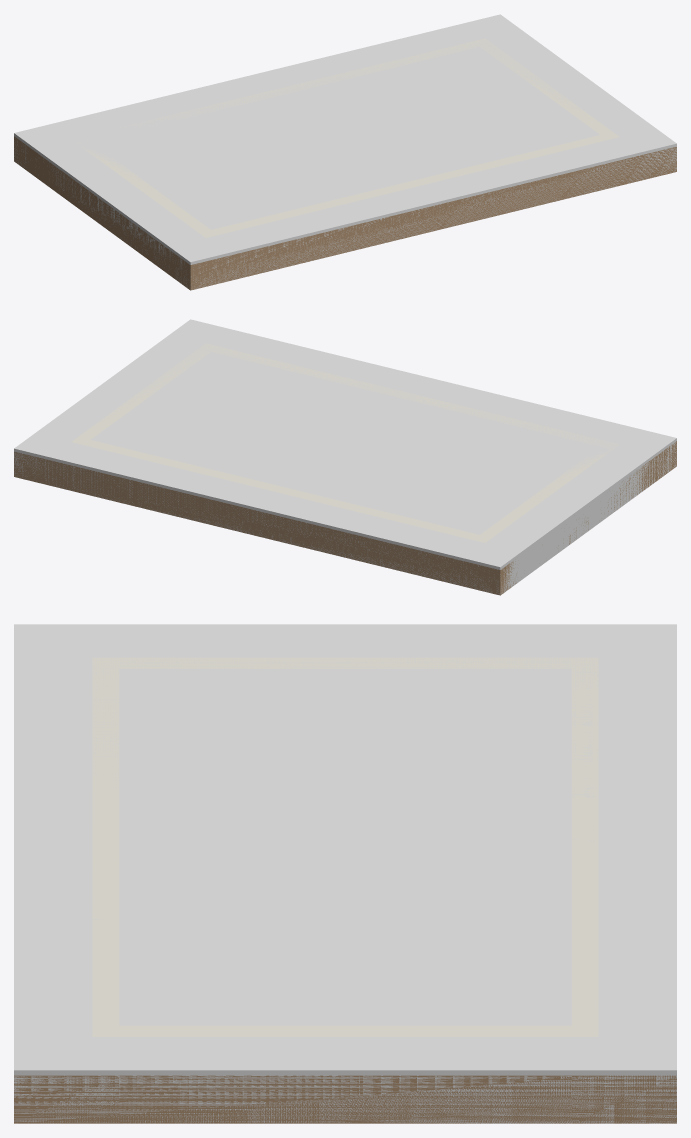
Rendered from bb_set_pool.fbx.
3 renders of one model, top to bottom at view 1: azimuth 30°, elevation 25°; view 2: azimuth 150°, elevation 25°; view 3: azimuth 270°, elevation 25°, orthographic. The views are drawn at different scales.
Parts seen in each view (by area): view 1: bb_set_pool_col, bb_set_pool; view 2: bb_set_pool_col, bb_set_pool; view 3: bb_set_pool_col, bb_set_pool.
Part boxes in pixels (x1,y1,x2,y2): bb_set_pool_col: [14, 14, 676, 289]; bb_set_pool: [14, 38, 676, 290]; bb_set_pool_col: [14, 319, 676, 595]; bb_set_pool: [14, 343, 676, 595]; bb_set_pool_col: [14, 624, 676, 1123]; bb_set_pool: [14, 657, 676, 1123].
Bounding box in the file's own units: 7 × 0.39 × 4.4.
